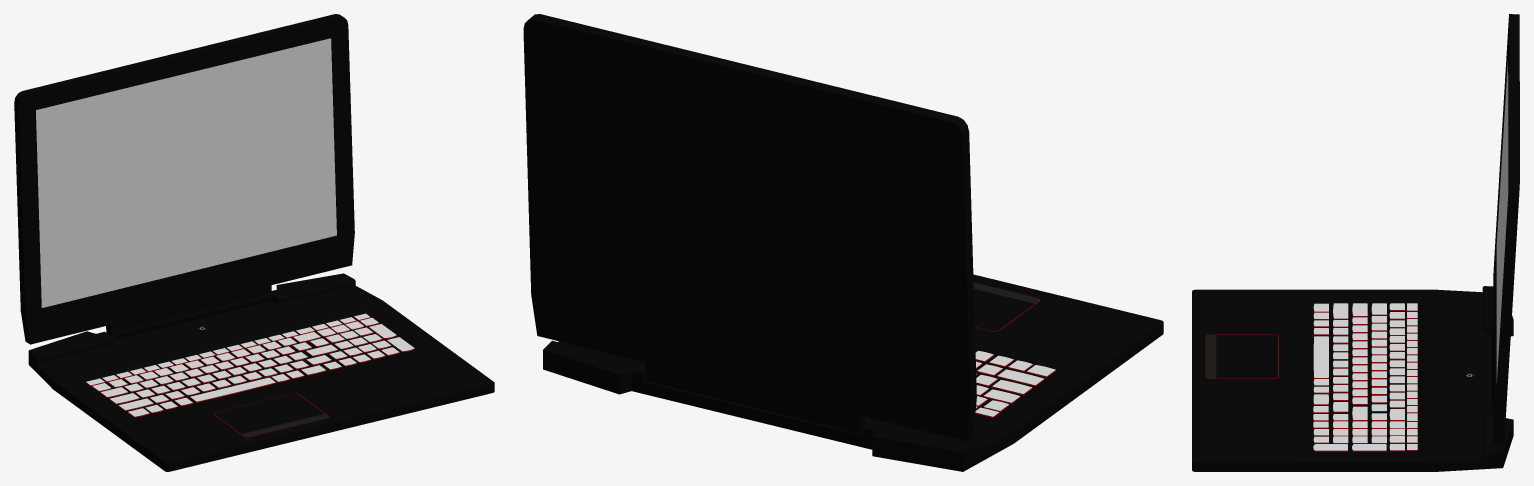
Rendered from Computer1.fbx.
The picture shows the model from 3 angles, left to right: view 1: azimuth 30°, elevation 25°; view 2: azimuth 150°, elevation 25°; view 3: azimuth 270°, elevation 25°; orthographic projection. The views are drawn at different scales.
Parts seen in each view (by area): view 1: Plane.001, Plane, Cube; view 2: Plane.001, Plane, Cube; view 3: Plane, Cube, Plane.001.
Boxes of the visible parts, x1,y1,x2,y2 form: Plane.001: (14, 14, 354, 344); Plane: (28, 273, 494, 471); Cube: (86, 313, 414, 417); Plane.001: (523, 14, 976, 441); Plane: (543, 274, 1163, 471); Cube: (975, 351, 1055, 417); Plane: (1192, 286, 1513, 471); Cube: (1313, 303, 1417, 451); Plane.001: (1491, 14, 1519, 443).
Size of what is drawn, in the model's own units: 390 by 304 by 313.
